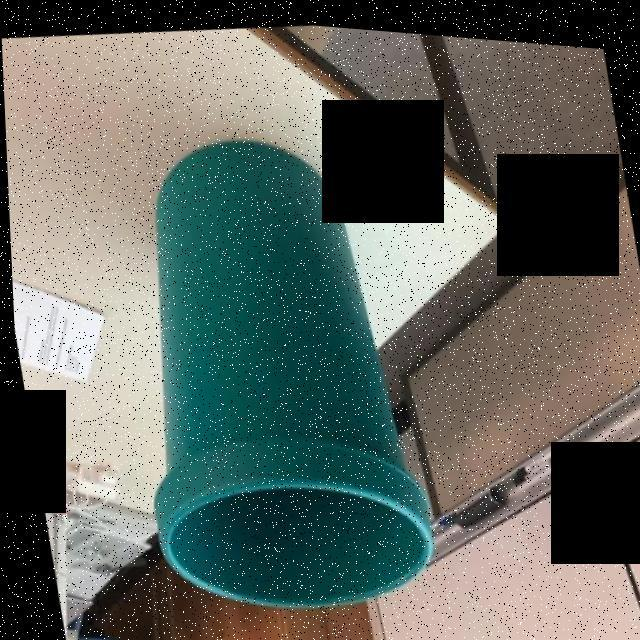bin: (76, 103, 469, 640)
